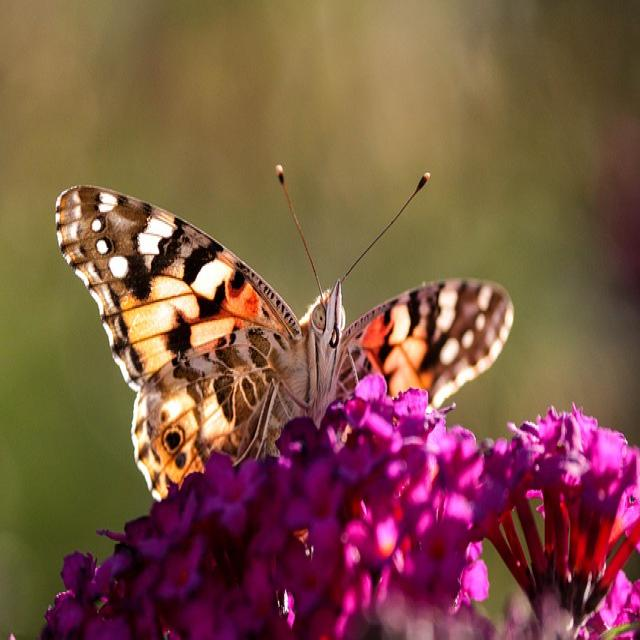butterfly: (56, 190, 511, 499)
